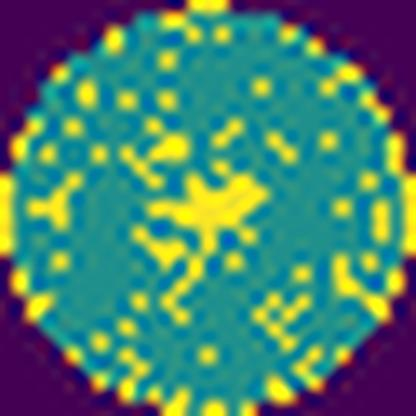Center: (125, 159, 273, 271)
